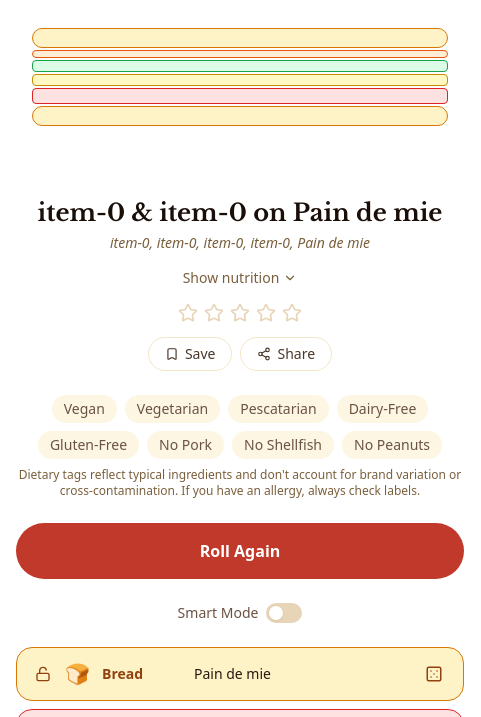
Test: HomePage › load from saved sandwich › with an ingredient that is not enabled › drops a kept ingredient once its category is unlocked and rolled
Step 1. Click the button named "lock category" → (43, 674), box [33,664,53,684]
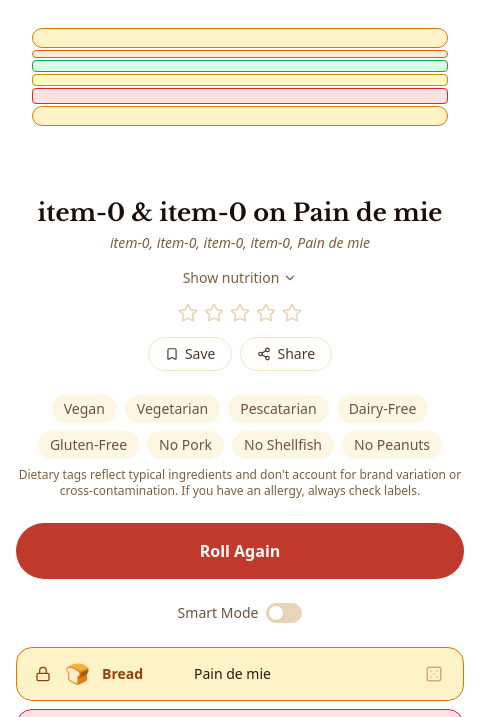
Step 2. Click the button "Roll Again" → (240, 551), box [16,523,464,579]
Wait 4500 ms
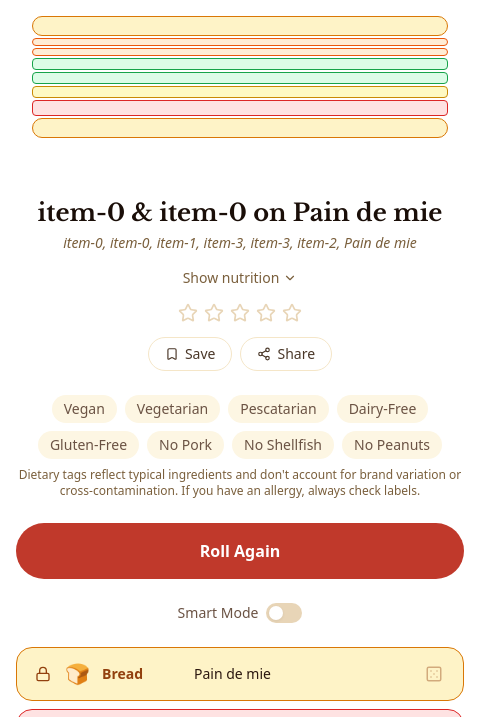
Step 3. Click the button named "unlock category" → (43, 674), box [33,664,53,684]
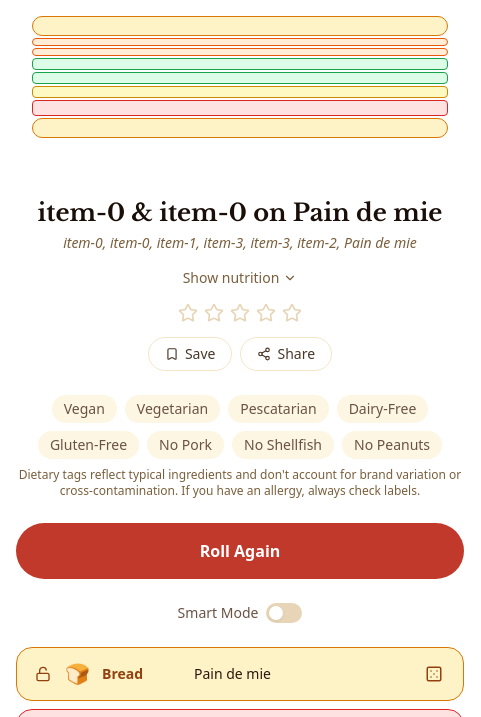
Step 4. Click the button "Roll Again" → (240, 551), box [16,523,464,579]
Wait 4500 ms
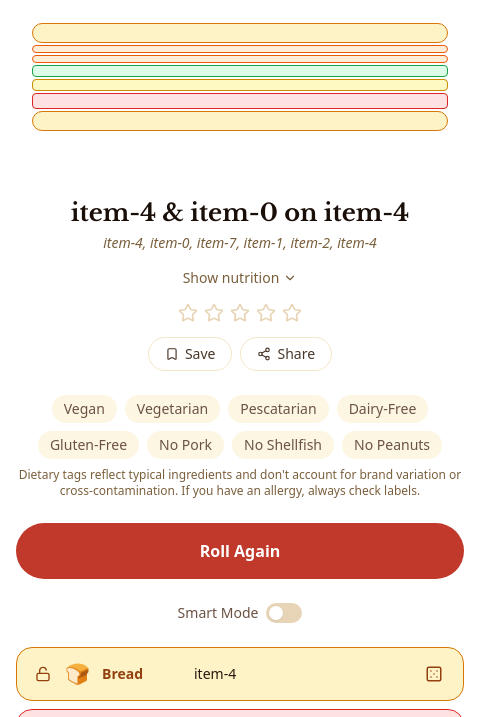
Result: the heading "Pain de mie" is gone
